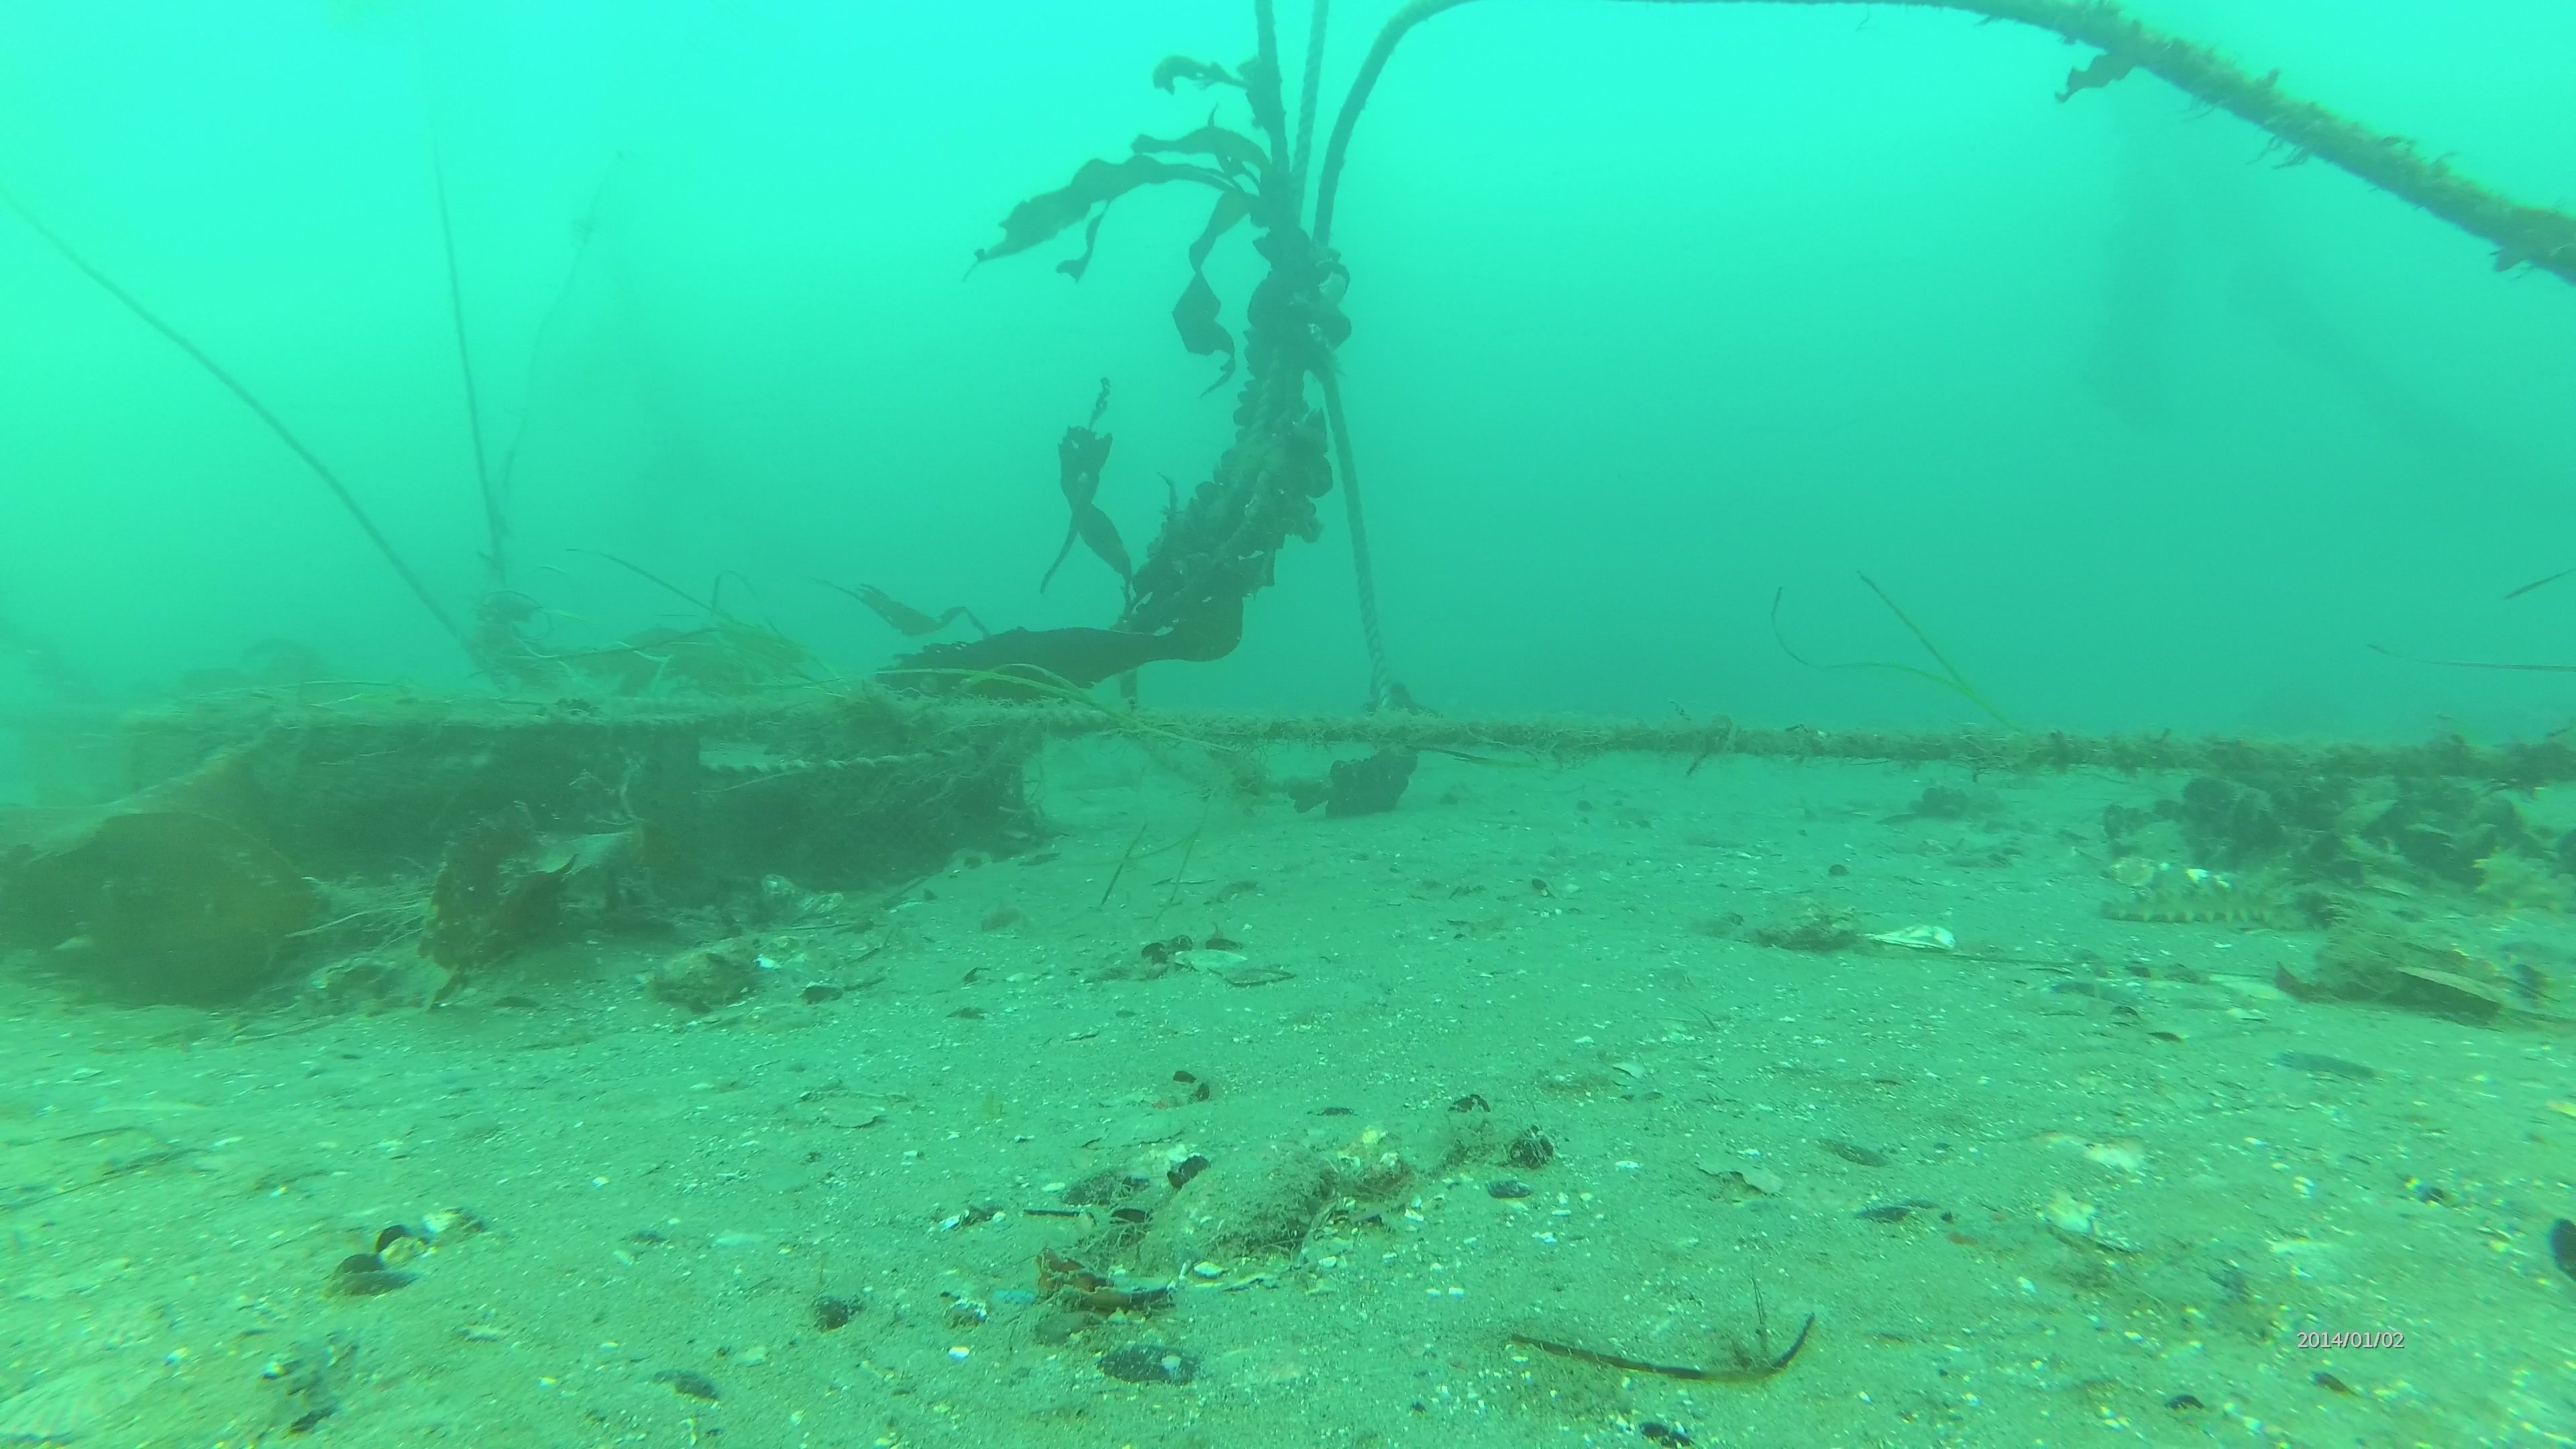holothurian: (2104, 853, 2316, 936)
